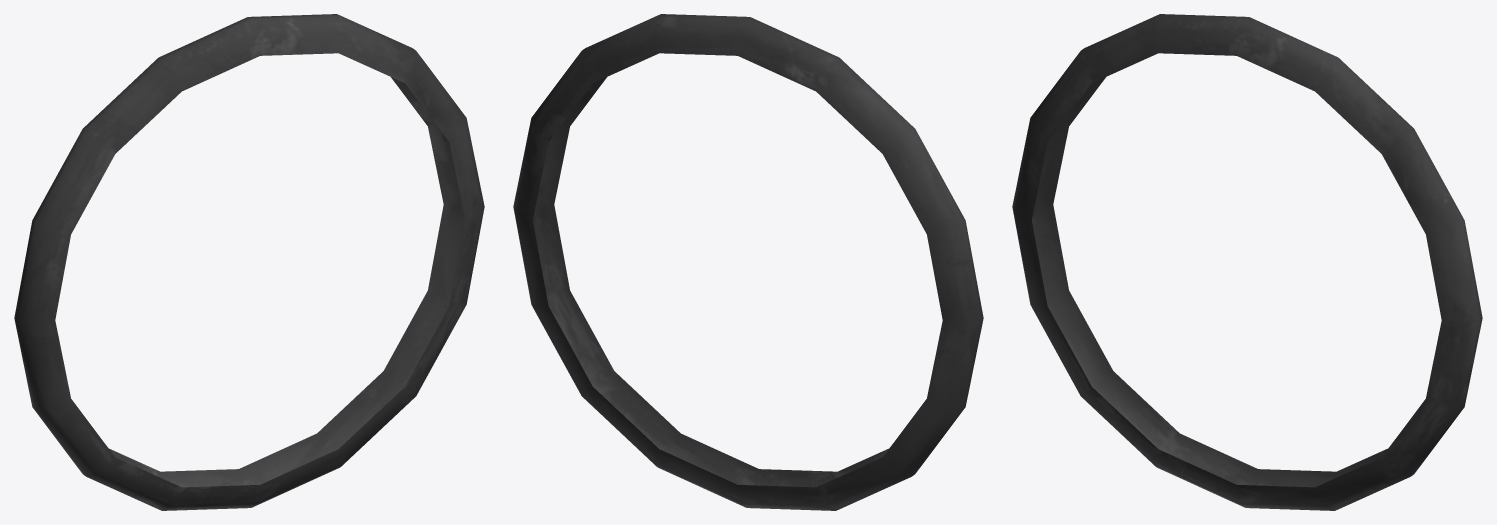
File: pipeconnector_002.fbx
The picture shows the model from 3 angles, left to right: view 1: azimuth 30°, elevation 25°; view 2: azimuth 150°, elevation 25°; view 3: azimuth 330°, elevation 25°; orthographic projection.
Parts seen in each view (by area): view 1: pipeconnector_002; view 2: pipeconnector_002; view 3: pipeconnector_002.
Boxes of the visible parts, box(x1,y1,x2,y2) form: pipeconnector_002: box(14, 14, 484, 510); pipeconnector_002: box(513, 14, 983, 510); pipeconnector_002: box(1012, 14, 1482, 510).
Bounding box in the file's own units: 1003 × 80 × 1003.
